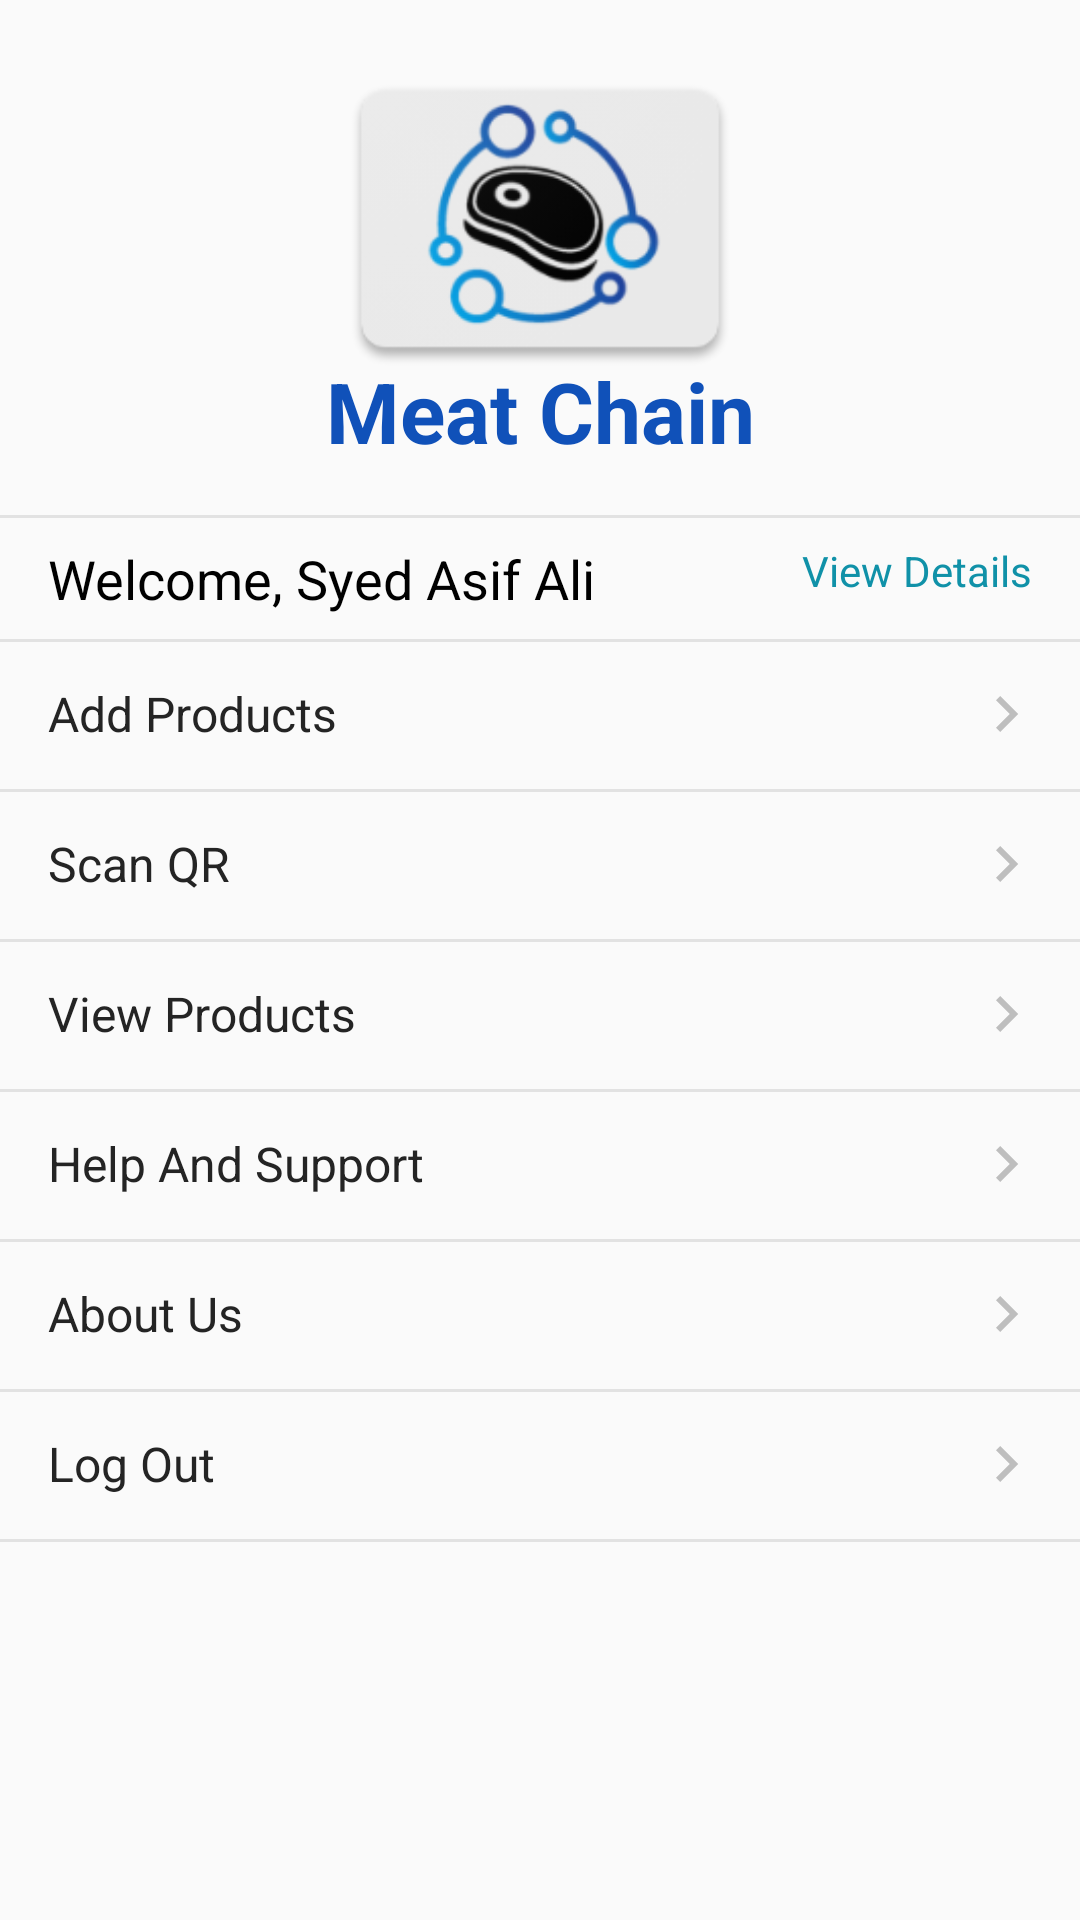

Point at icon controls on the screen. Image size 1080px x 1920px, points as [x,y].
right arrow: [1007,714], [1007,864], [1007,1014], [1007,1164], [1007,1314], [1007,1464]
